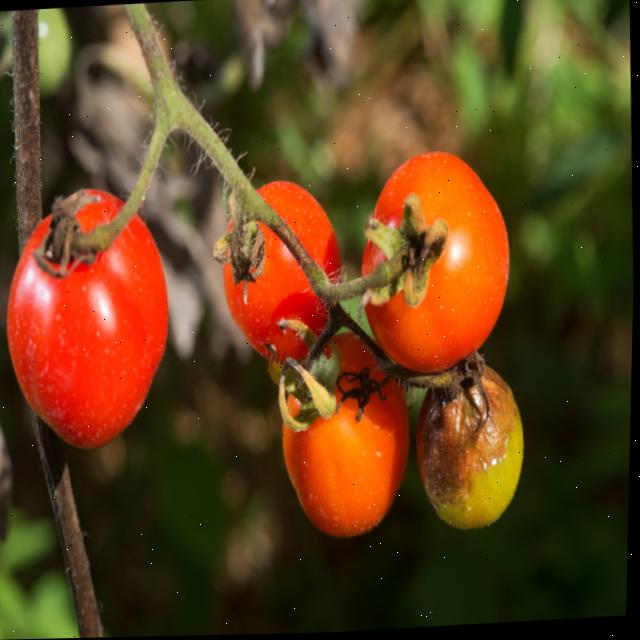damaged: (408, 354, 531, 542)
overripe: (1, 168, 178, 459), (358, 146, 519, 376), (278, 331, 418, 551), (217, 177, 346, 357)
